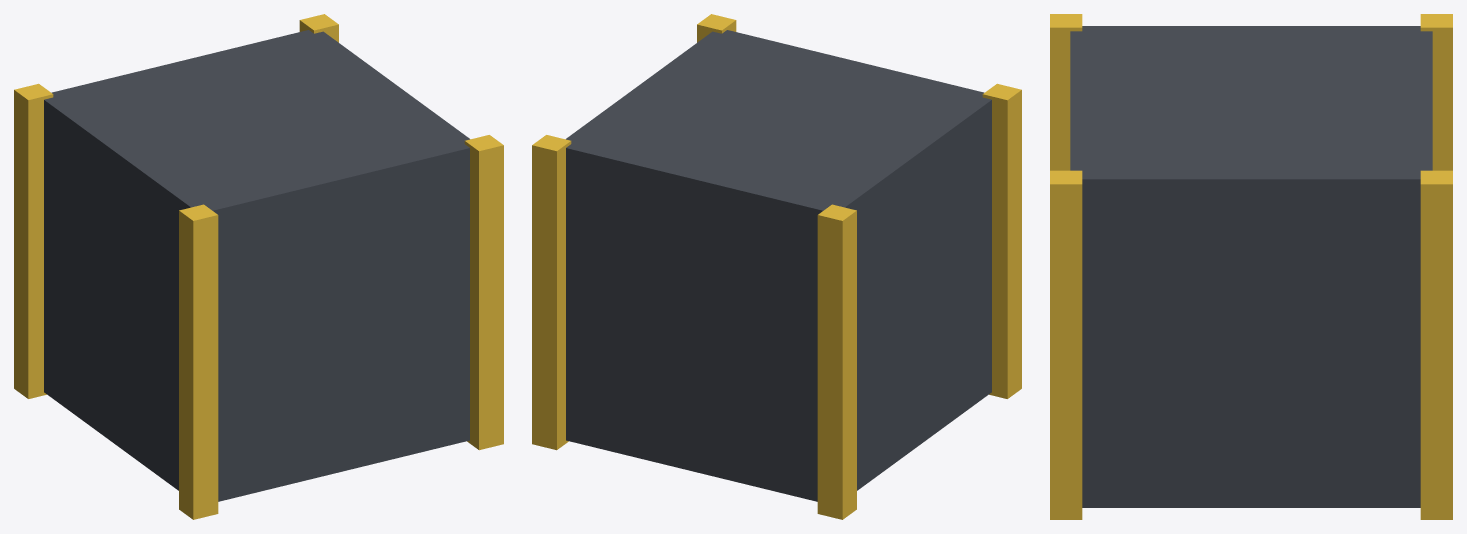
File: prop_crate.glb
The picture shows the model from 3 angles, left to right: view 1: azimuth 30°, elevation 25°; view 2: azimuth 150°, elevation 25°; view 3: azimuth 270°, elevation 25°; orthographic projection. The views are drawn at different scales.
Parts seen in each view (by area): view 1: CrateChassis, Corner_-0.46_-0.46, Corner_0.46_-0.46, Corner_-0.46_0.46, Corner_0.46_0.46; view 2: CrateChassis, Corner_-0.46_0.46, Corner_0.46_0.46, Corner_-0.46_-0.46, Corner_0.46_-0.46; view 3: CrateChassis, Corner_0.46_0.46, Corner_0.46_-0.46, Corner_-0.46_0.46, Corner_-0.46_-0.46.
Boxes of the visible parts, x1,y1,x2,y2 form: CrateChassis: [44, 30, 469, 501]; Corner_-0.46_-0.46: [179, 204, 218, 519]; Corner_0.46_-0.46: [464, 135, 503, 450]; Corner_-0.46_0.46: [14, 83, 53, 398]; Corner_0.46_0.46: [299, 14, 338, 42]; CrateChassis: [566, 30, 991, 501]; Corner_-0.46_0.46: [817, 204, 856, 519]; Corner_0.46_0.46: [532, 135, 571, 450]; Corner_-0.46_-0.46: [982, 83, 1021, 398]; Corner_0.46_-0.46: [697, 14, 736, 42]; CrateChassis: [1070, 26, 1432, 507]; Corner_0.46_0.46: [1420, 170, 1452, 519]; Corner_0.46_-0.46: [1050, 170, 1082, 519]; Corner_-0.46_0.46: [1420, 14, 1452, 170]; Corner_-0.46_-0.46: [1050, 14, 1082, 170].
Bounding box in the file's own units: 1 × 0.92 × 1.
